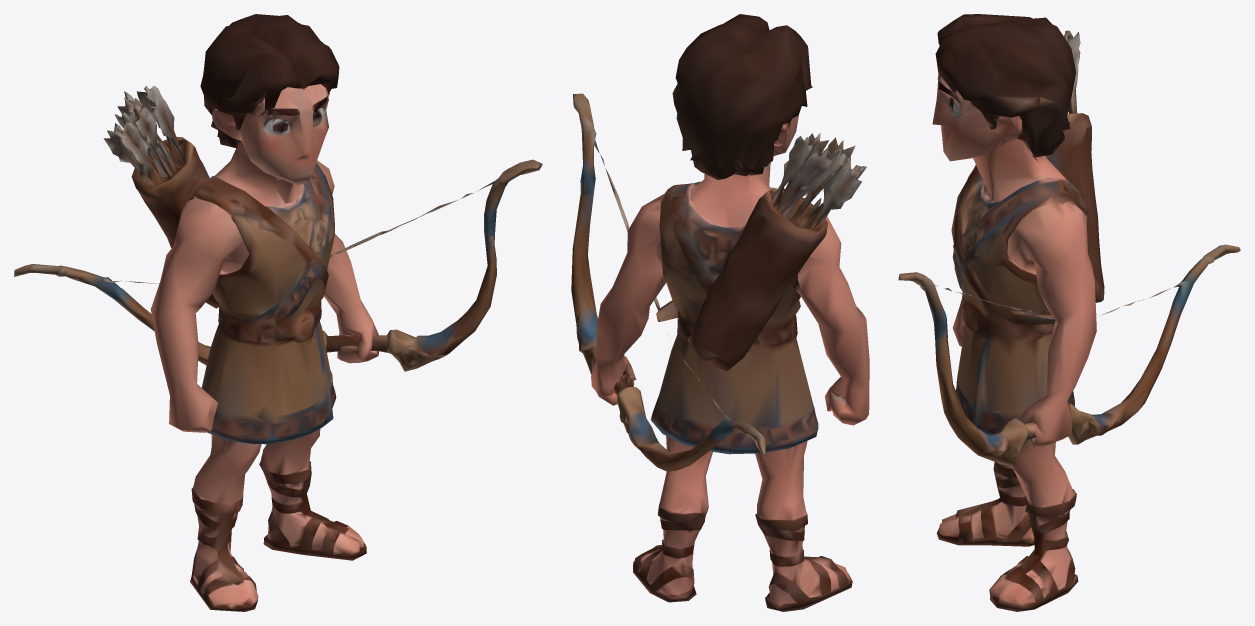
Rendered from lucistnik_m_lo.glb.
The picture shows the model from 3 angles, left to right: view 1: azimuth 30°, elevation 25°; view 2: azimuth 150°, elevation 25°; view 3: azimuth 270°, elevation 25°; orthographic projection.
Size of the model in its own units: 1.32 by 1.9 by 1.08.
